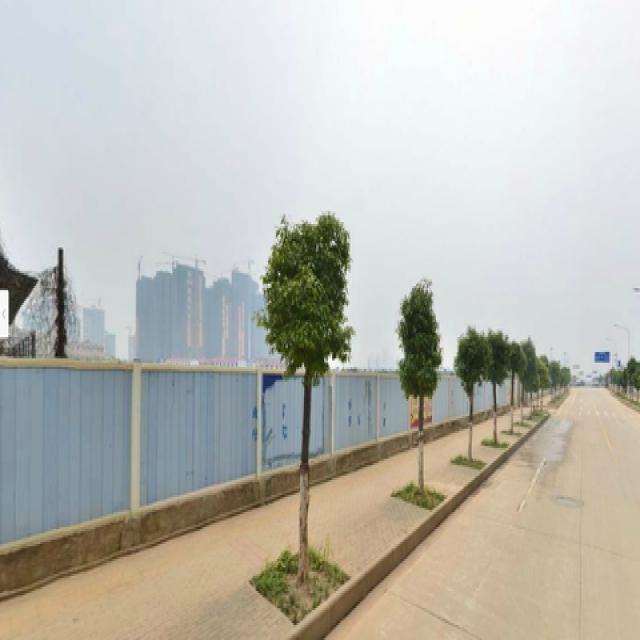cinn: (271, 220, 344, 576), (399, 284, 444, 495), (452, 331, 481, 465)
